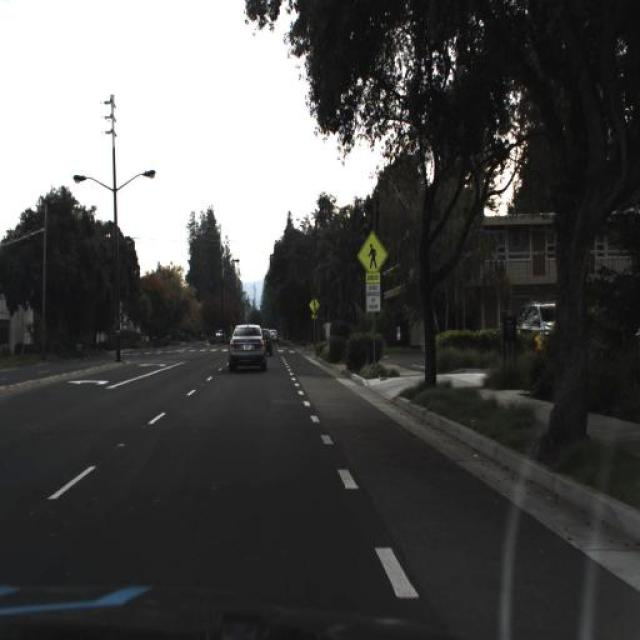car: (222, 320, 268, 378), (509, 298, 557, 338), (261, 321, 273, 364)
